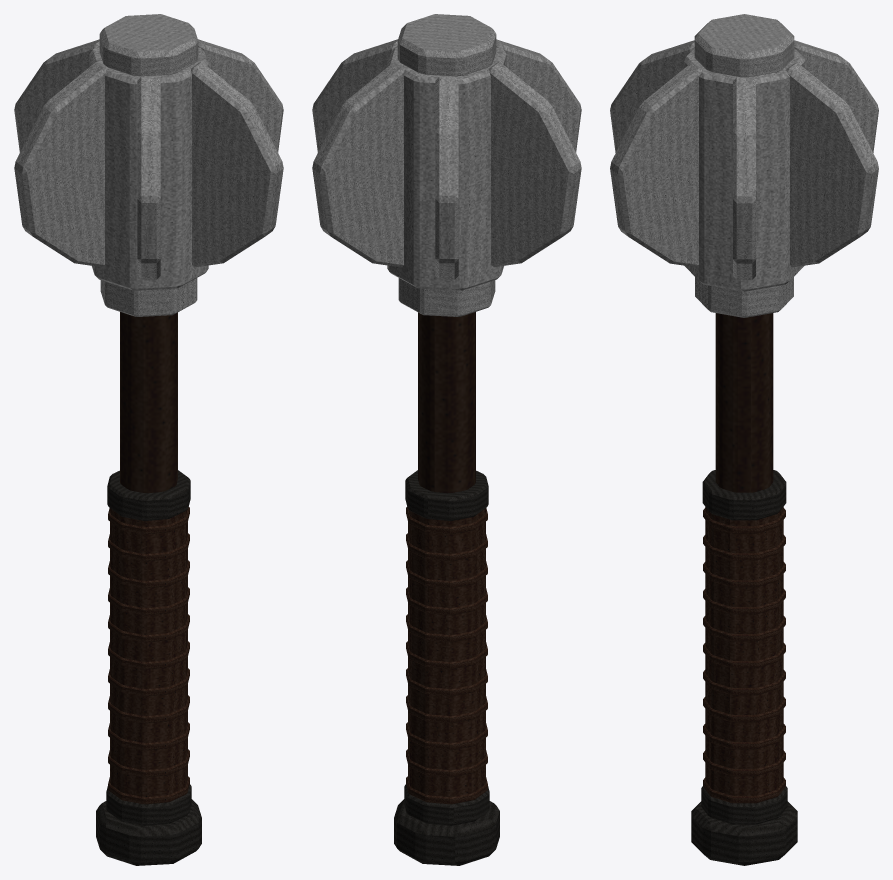
File: gritty_mace.glb
The picture shows the model from 3 angles, left to right: view 1: azimuth 30°, elevation 25°; view 2: azimuth 150°, elevation 25°; view 3: azimuth 270°, elevation 25°; orthographic projection.
Parts seen in each view (by area): view 1: Leather_grip, Head_core, Head_flange_5, Head_flange_3, Wooden_shaft, Head_crown, Head_flange_4, Pommel, Head_flange_0, Head_flange_2, Grip_upper_band, Head_socket (+12 smaller); view 2: Leather_grip, Head_core, Head_flange_1, Head_flange_3, Wooden_shaft, Head_crown, Head_flange_2, Pommel, Head_flange_0, Head_flange_4, Grip_upper_band, Head_socket (+12 smaller); view 3: Leather_grip, Head_core, Head_flange_1, Head_flange_5, Wooden_shaft, Head_crown, Head_flange_0, Pommel, Head_flange_2, Head_flange_4, Grip_upper_band, Head_socket (+12 smaller).
Boxes of the visible parts, <box> form: Leather_grip: <box>110,508,187,796</box>; Head_core: <box>89,47,208,290</box>; Head_flange_5: <box>191,62,283,267</box>; Head_flange_3: <box>14,62,106,267</box>; Wooden_shaft: <box>120,312,177,493</box>; Head_crown: <box>99,14,198,76</box>; Head_flange_4: <box>137,76,160,279</box>; Pommel: <box>96,799,201,865</box>; Head_flange_0: <box>198,39,283,152</box>; Head_flange_2: <box>14,39,99,152</box>; Grip_upper_band: <box>107,470,190,520</box>; Head_socket: <box>100,278,197,316</box>; Leather_grip: <box>408,508,485,796</box>; Head_core: <box>387,47,506,290</box>; Head_flange_1: <box>312,62,404,267</box>; Head_flange_3: <box>489,62,581,267</box>; Wooden_shaft: <box>418,312,475,493</box>; Head_crown: <box>397,14,496,76</box>; Head_flange_2: <box>435,76,458,279</box>; Pommel: <box>394,799,499,865</box>; Head_flange_0: <box>312,39,397,152</box>; Head_flange_4: <box>496,39,581,152</box>; Grip_upper_band: <box>405,470,488,520</box>; Head_socket: <box>398,278,495,316</box>; Leather_grip: <box>705,507,783,795</box>; Head_core: <box>684,48,804,291</box>; Head_flange_1: <box>786,62,878,267</box>; Head_flange_5: <box>610,62,702,267</box>; Wooden_shaft: <box>715,313,773,492</box>; Head_crown: <box>694,14,794,77</box>; Head_flange_0: <box>733,77,755,279</box>; Pommel: <box>691,801,797,865</box>; Head_flange_2: <box>794,40,878,152</box>; Head_flange_4: <box>610,40,694,152</box>; Grip_upper_band: <box>702,470,786,520</box>; Head_socket: <box>695,277,793,317</box>.
Bounding box in the file's own units: 0.2332 × 0.6925 × 0.2079.
Materials: 4 (4 with a texture image).
